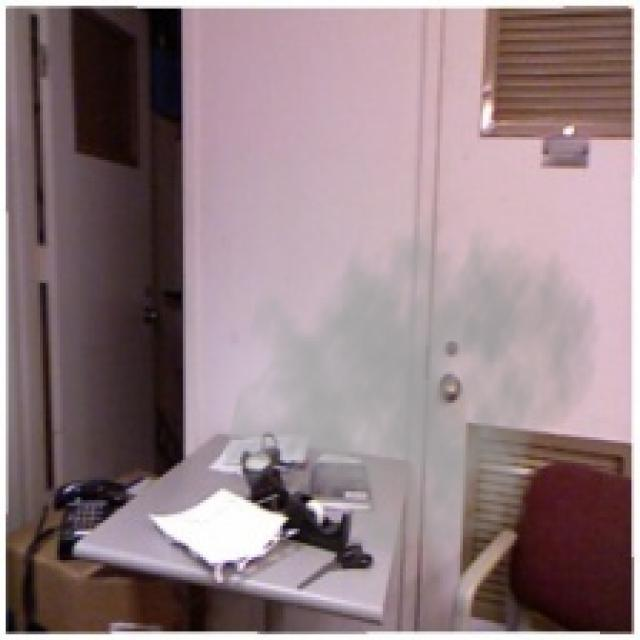Smoke: (220, 188, 603, 580)
